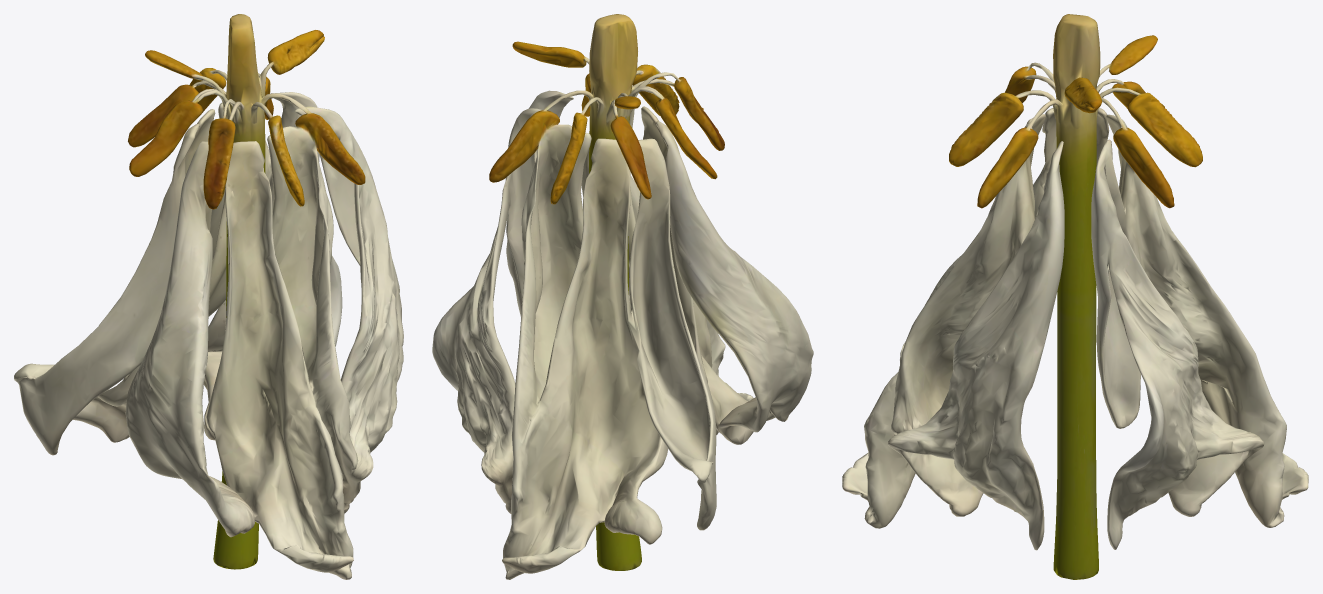
Rendered from flower-menstrual.glb.
The picture shows the model from 3 angles, left to right: view 1: azimuth 30°, elevation 25°; view 2: azimuth 150°, elevation 25°; view 3: azimuth 270°, elevation 25°; orthographic projection. The views are drawn at different scales.
Visible parts, largest first — view 1: tripo_node_60446b54-9c11-4167-9411-f6087c6ecb4e; view 2: tripo_node_60446b54-9c11-4167-9411-f6087c6ecb4e; view 3: tripo_node_60446b54-9c11-4167-9411-f6087c6ecb4e.
Boxes of the visible parts, x1,y1,x2,y2 form: tripo_node_60446b54-9c11-4167-9411-f6087c6ecb4e: (14,14,403,579); tripo_node_60446b54-9c11-4167-9411-f6087c6ecb4e: (432,14,813,579); tripo_node_60446b54-9c11-4167-9411-f6087c6ecb4e: (842,14,1308,579).
Size of the model in its own units: 0.5702 by 0.981 by 0.7463.
Materials: 1 (1 with a texture image).
